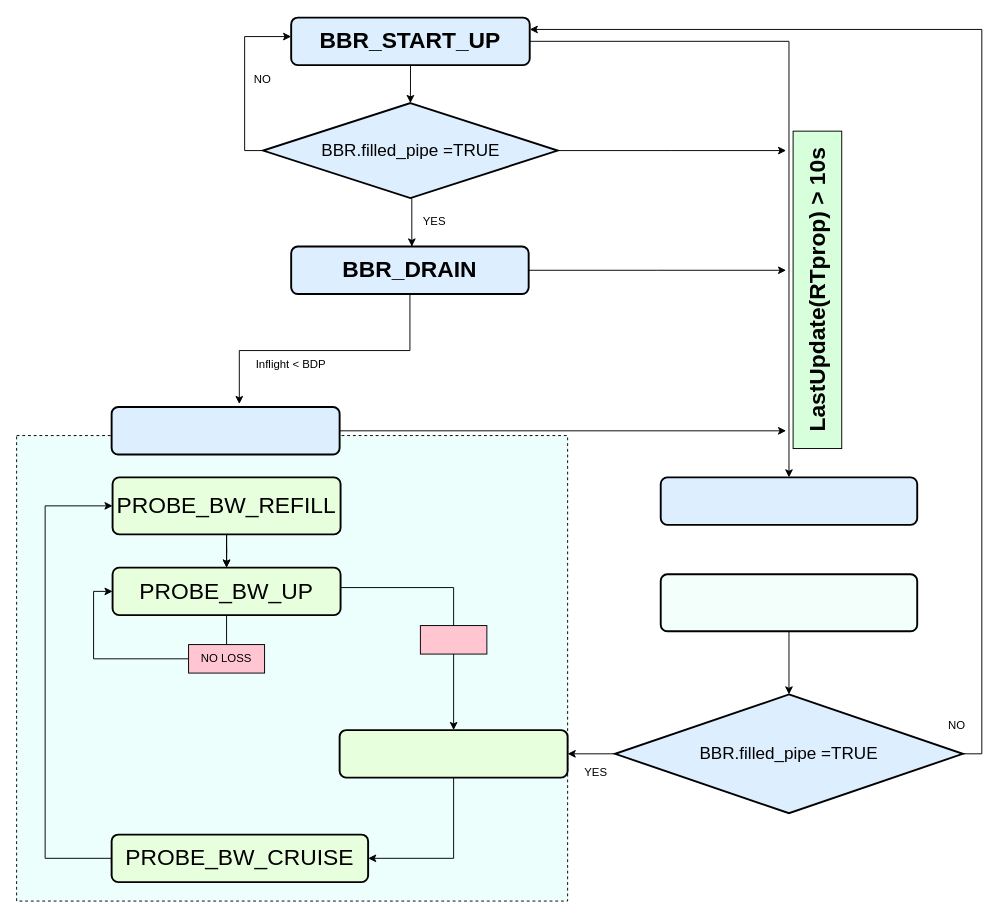
Some shapes in this 1006 by 918 pixel diagram are drawn without their labels. Here are the shapes that lost their labels. From the top down, the centre of each, then its label:
the point at 225,430: BBR_PROBE_BW
the point at 788,500: BBR_ PROBE_RTT
the point at 788,602: Update RTprop
the point at 453,639: LOSS
the point at 453,753: PROBE_BW_DOWN
